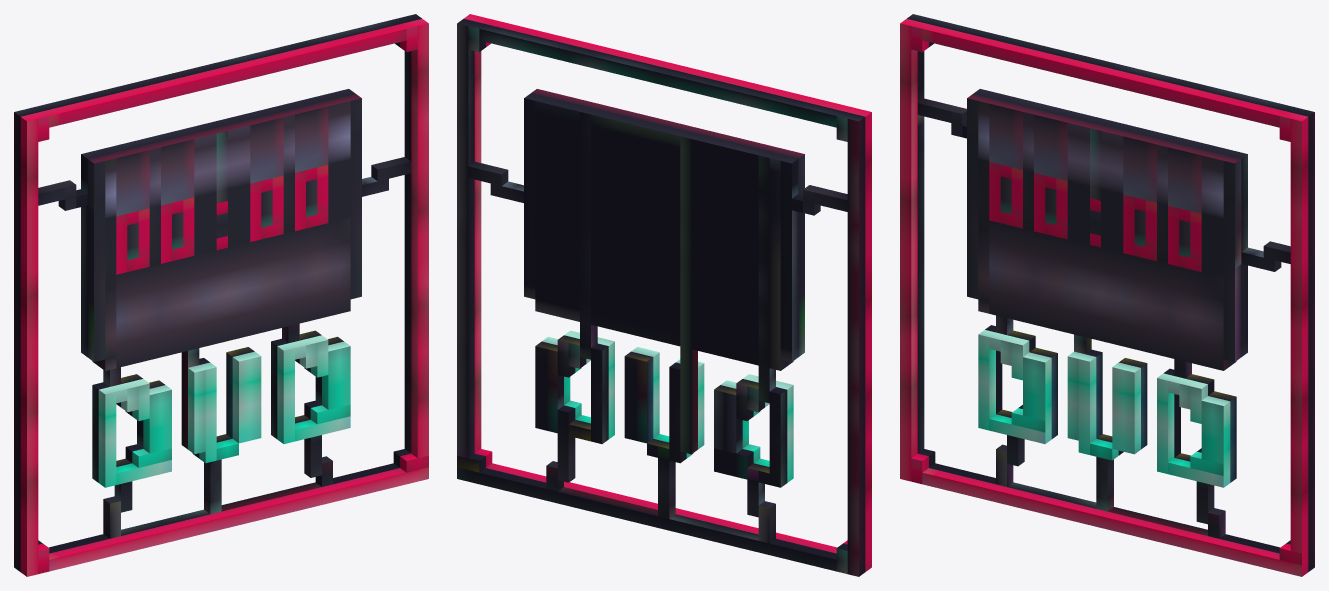
The model's file is Billboard_DVD_00.fbx.
3 renders of one model, left to right at view 1: azimuth 30°, elevation 25°; view 2: azimuth 150°, elevation 25°; view 3: azimuth 330°, elevation 25°, orthographic.
Visible parts, largest first — view 1: Billboard_DVD_00; view 2: Billboard_DVD_00; view 3: Billboard_DVD_00.
Part boxes in pixels (bbox=[...]): Billboard_DVD_00: bbox=[14, 14, 428, 576]; Billboard_DVD_00: bbox=[457, 14, 871, 576]; Billboard_DVD_00: bbox=[900, 14, 1314, 576].
Bounding box in the file's own units: 180 × 195 × 10.
